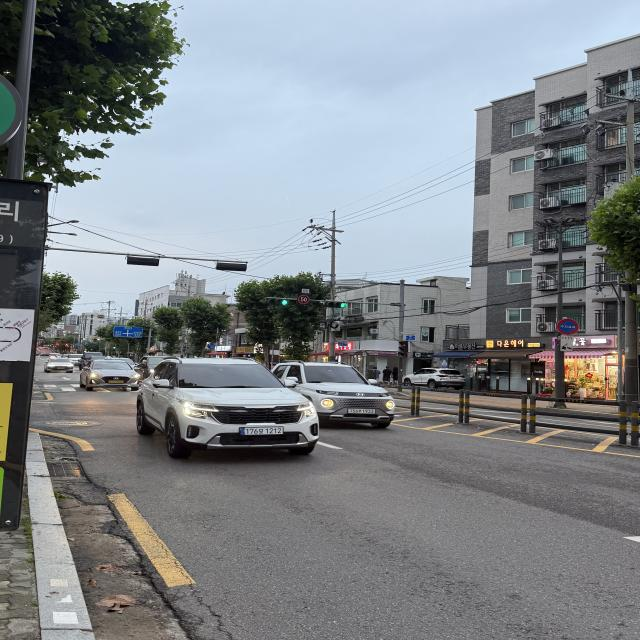car: (129, 349, 329, 476), (265, 356, 409, 435), (73, 356, 145, 393), (402, 361, 472, 394), (44, 355, 78, 377)
